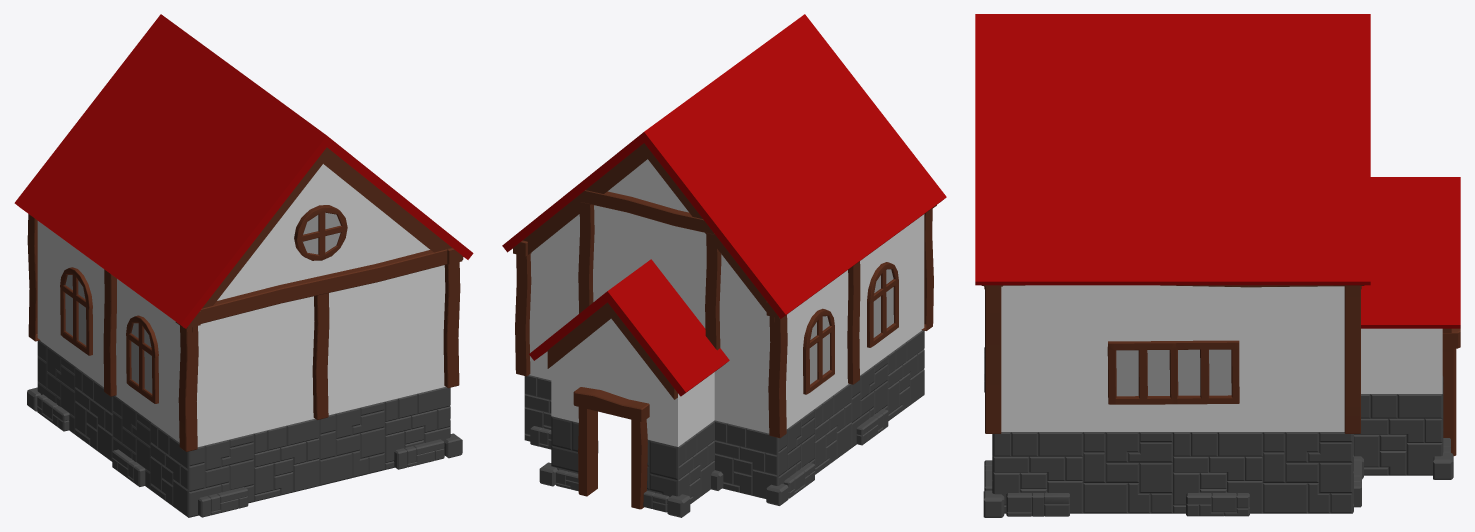
Rendered from Test_house.fbx.
3 renders of one model, left to right at view 1: azimuth 30°, elevation 25°; view 2: azimuth 150°, elevation 25°; view 3: azimuth 270°, elevation 25°, orthographic. The views are drawn at different scales.
Visible parts, largest first — view 1: Wall_Large (×2), Roof_Edge3, Roof_Edge_no_3, Roof_Edge_3, Roof_Middle3, Roof_Middle4, Roof_Edge_no1, Roof_Base3, Roof_Base4, Beam, Stone_Wall10, Stone_wall_6 (+23 smaller); view 2: Wall_Large, Roof_Edge_2, Roof_Edge_3, Wall_small, Roof_Edge_no1, Roof_Edge3, Roof_Middle3, Roof_Middle4, Doorway_Wall, Roof_Edge_no_3, Roof_Base3, Roof_Base4 (+29 smaller); view 3: Wall_Large, Roof_Edge_4, Roof_Edge2, Roof_Edge1, Roof_Middle1, Roof_Middle2, Roof_Edge_no2, Roof_Edge_no_2, Roof_Base1, Roof_Base2, Window_Large, Stone_wall_5 (+12 smaller).
Part boxes in pixels (x1,y1,x2,y2): Wall_Large (×2): (37,221,445,446); Roof_Edge3: (135,187,261,332); Roof_Edge_no_3: (216,102,326,247); Roof_Edge_3: (14,98,140,237); Roof_Middle3: (60,132,178,266); Roof_Middle4: (97,159,215,293); Roof_Edge_no1: (95,14,205,131); Roof_Base3: (179,75,281,186); Roof_Base4: (141,47,243,158); Beam: (175,249,463,327); Stone_Wall10: (254,419,319,501); Stone_wall_6: (319,401,384,485); Wall_Large: (786,214,924,428); Roof_Edge_2: (607,259,729,399); Roof_Edge_3: (707,181,829,321); Wall_small: (593,205,706,328); Roof_Edge_no1: (644,100,750,239); Roof_Edge3: (825,96,946,230); Roof_Middle3: (751,155,865,285); Roof_Middle4: (788,128,902,258); Doorway_Wall: (551,354,685,446); Roof_Edge_no_3: (761,14,867,127); Roof_Base3: (725,46,823,154); Roof_Base4: (688,73,787,181); Wall_Large: (1001,285,1344,431); Roof_Edge_4: (975,133,1083,289); Roof_Edge2: (1263,133,1370,289); Roof_Edge1: (1361,177,1460,332); Roof_Middle1: (1083,133,1172,285); Roof_Middle2: (1173,133,1262,285); Roof_Edge_no2: (975,14,1083,133); Roof_Edge_no_2: (1263,14,1370,133); Roof_Base1: (1173,14,1262,133); Roof_Base2: (1083,14,1172,133); Window_Large: (1107,340,1239,404); Stone_wall_5: (1083,432,1172,513).
Bounding box in the file's own units: 4.48 × 5.21 × 5.4.
